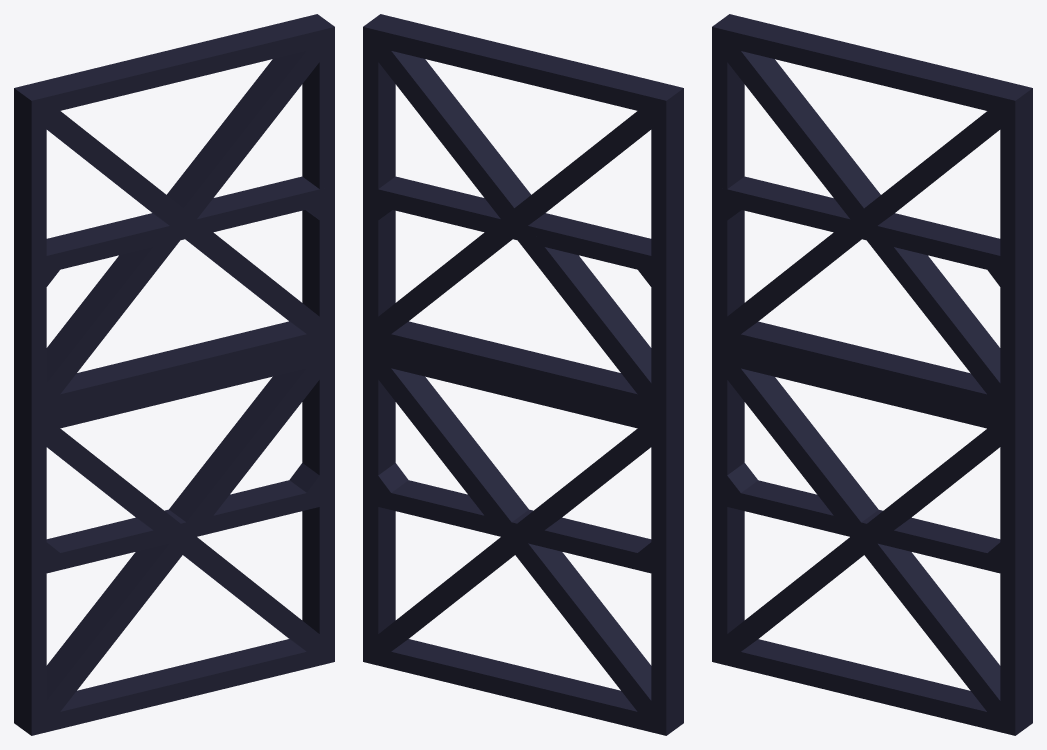
File: Supports.fbx
3 views of the same model, side by side, from view 1: azimuth 30°, elevation 25°; view 2: azimuth 150°, elevation 25°; view 3: azimuth 330°, elevation 25° (orthographic).
Parts seen in each view (by area): view 1: Support2x, Support; view 2: Support2x, Support; view 3: Support2x, Support.
Part boxes in pixels (box(x1,y1,x2,y2)): Support2x: box(14, 14, 334, 735); Support: box(31, 176, 334, 576); Support2x: box(363, 14, 683, 735); Support: box(378, 176, 651, 573); Support2x: box(712, 14, 1032, 735); Support: box(712, 176, 1032, 576).
Size of the model in its own units: 100 by 200 by 10.
